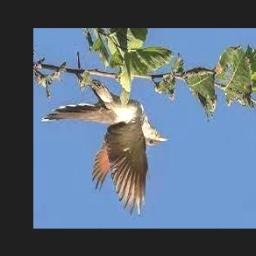Cuckoo: (41, 82, 169, 218)
